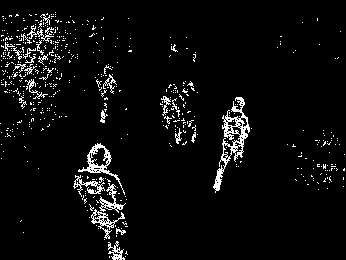person: (73, 141, 127, 260), (213, 94, 251, 193), (160, 81, 181, 147), (177, 79, 198, 145), (95, 63, 118, 121)
